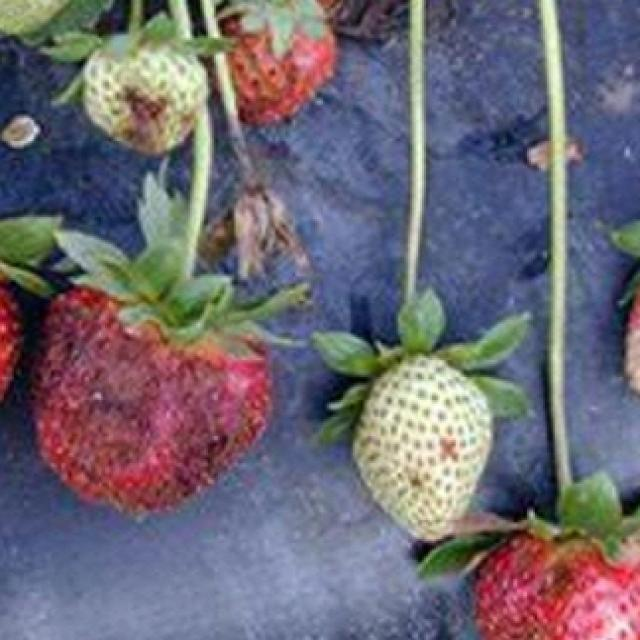Anthracnose Fruit Rot: (33, 287, 273, 515), (217, 13, 343, 123), (102, 80, 201, 156), (429, 421, 475, 472)
